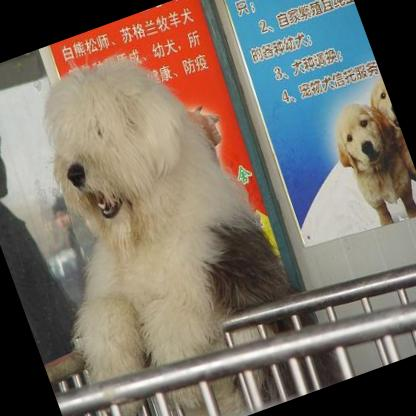Old_English_sheepdog: (0, 14, 346, 416)
